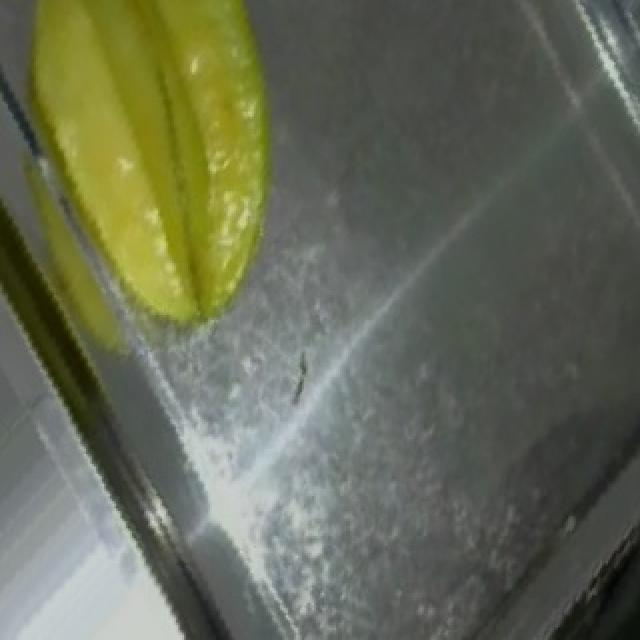fruit: (2, 0, 354, 345)
